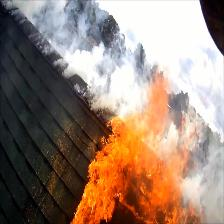fire: (126, 4, 205, 79), (97, 129, 163, 218)
smoke: (42, 3, 102, 66)
